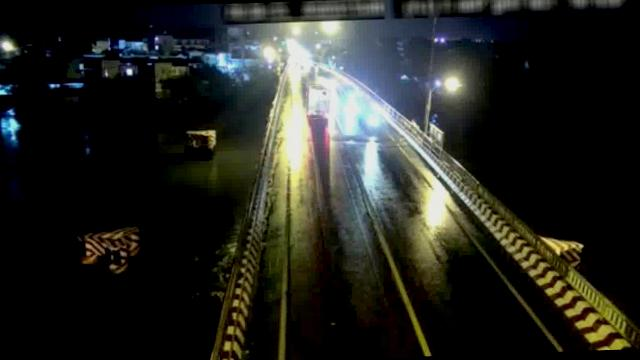Truck: (306, 85, 335, 119)
